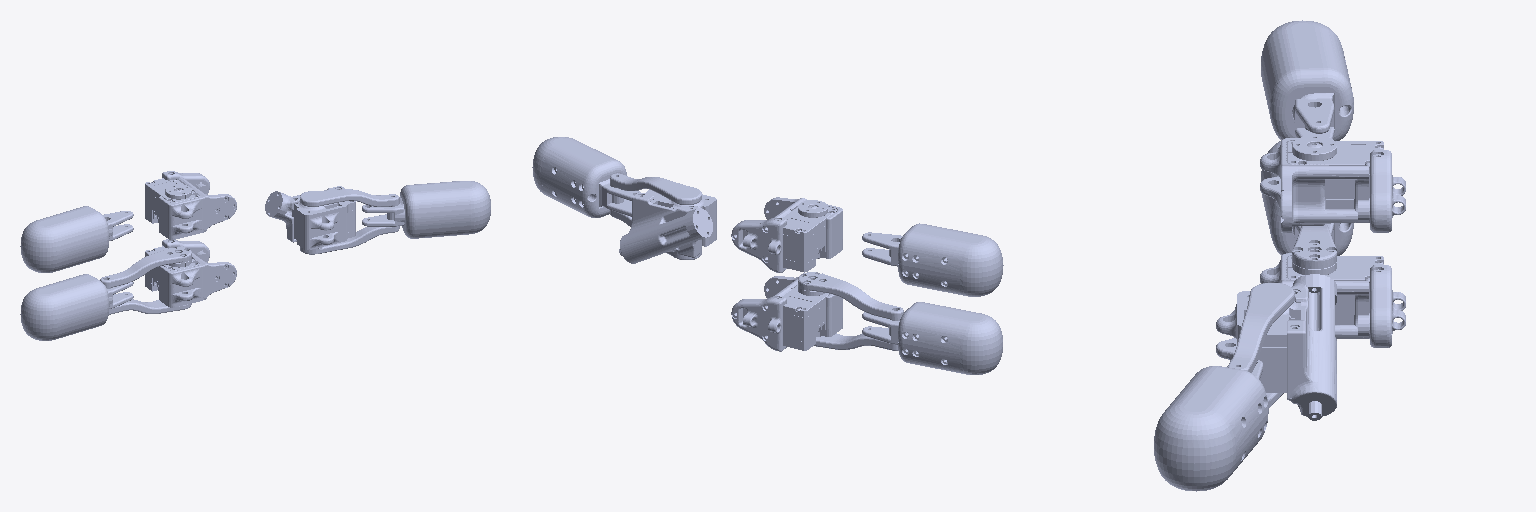
The robot description file, URDF, robot "URDF_v4_Right":
<?xml version="1.0" encoding="utf-8"?>
<!-- This URDF was automatically created by SolidWorks to URDF Exporter! Originally created by Stephen Brawner (brawner@gmail.com) 
     Commit Version: 1.6.0-4-g7f85cfe  Build Version: 1.6.7995.38578
     For more information, please see http://wiki.ros.org/sw_urdf_exporter -->
<robot
  name="URDF_v4_Right">
  <link
    name="base_link">
    <inertial>
      <origin
        xyz="0.00656720169302084 0.014479377474207 0.00017721012836088"
        rpy="0 0 0" />
      <mass
        value="0.241418881118491" />
      <inertia
        ixx="8.29179012284045E-05"
        ixy="-5.57843135835109E-06"
        ixz="1.75115263652209E-07"
        iyy="0.000145285415943206"
        iyz="-4.25231448389357E-07"
        izz="0.00010114061356772" />
    </inertial>
    <visual>
      <origin
        xyz="0 0 0"
        rpy="0 0 0" />
      <geometry>
        <mesh
          filename="package://URDF_v4_Right/meshes/base_link.STL" />
      </geometry>
      <material
        name="">
        <color
          rgba="0.792156862745098 0.819607843137255 0.933333333333333 1" />
      </material>
    </visual>
    <collision>
      <origin
        xyz="0 0 0"
        rpy="0 0 0" />
      <geometry>
        <mesh
          filename="package://URDF_v4_Right/meshes/base_link.STL" />
      </geometry>
    </collision>
  </link>
  <link
    name="CMC">
    <inertial>
      <origin
        xyz="0.0193678734622304 -0.00898899318604927 0.0104809276453103"
        rpy="0 0 0" />
      <mass
        value="0.0264128081450763" />
      <inertia
        ixx="1.83714301413544E-06"
        ixy="6.56655420051632E-07"
        ixz="1.66576044172142E-08"
        iyy="4.07199364840859E-06"
        iyz="4.8706980224364E-08"
        izz="4.45745212992967E-06" />
    </inertial>
    <visual>
      <origin
        xyz="0 0 0"
        rpy="0 0 0" />
      <geometry>
        <mesh
          filename="package://URDF_v4_Right/meshes/CMC.STL" />
      </geometry>
      <material
        name="">
        <color
          rgba="0.792156862745098 0.819607843137255 0.933333333333333 1" />
      </material>
    </visual>
    <collision>
      <origin
        xyz="0 0 0"
        rpy="0 0 0" />
      <geometry>
        <mesh
          filename="package://URDF_v4_Right/meshes/CMC.STL" />
      </geometry>
    </collision>
  </link>
  <joint
    name="Joint1"
    type="revolute">
    <origin
      xyz="0.0049117 0 0.0085073"
      rpy="1.5708 0 0" />
    <parent
      link="base_link" />
    <child
      link="CMC" />
    <axis
      xyz="0.86603 -0.5 0" />
    <limit
      lower="-1.25"
      upper="0.70"
      effort="1"
      velocity="1" />
  </joint>
  <link
    name="Link1_Thumb">
    <inertial>
      <origin
        xyz="-0.0203422741080077 0.00733798468042576 -1.64553600606743E-09"
        rpy="0 0 0" />
      <mass
        value="0.00560650073800743" />
      <inertia
        ixx="1.09064967247218E-07"
        ixy="4.3022683138531E-09"
        ixz="3.41177789429198E-14"
        iyy="1.74465945719792E-06"
        iyz="-1.73448350699336E-14"
        izz="1.74158758948159E-06" />
    </inertial>
    <visual>
      <origin
        xyz="0 0 0"
        rpy="0 0 0" />
      <geometry>
        <mesh
          filename="package://URDF_v4_Right/meshes/Link1_Thumb.STL" />
      </geometry>
      <material
        name="">
        <color
          rgba="0.792156862745098 0.819607843137255 0.933333333333333 1" />
      </material>
    </visual>
    <collision>
      <origin
        xyz="0 0 0"
        rpy="0 0 0" />
      <geometry>
        <mesh
          filename="package://URDF_v4_Right/meshes/Link1_Thumb.STL" />
      </geometry>
    </collision>
  </link>
  <joint
    name="Joint6"
    type="revolute">
    <origin
      xyz="0.013607 0 0.015"
      rpy="0 0.24469 3.1416" />
    <parent
      link="CMC" />
    <child
      link="Link1_Thumb" />
    <axis
      xyz="0 1 0" />
    <limit
      lower="0"
      upper="2"
      effort="0"
      velocity="0" />
  </joint>
  <link
    name="Fingertip_Thumb">
    <inertial>
      <origin
        xyz="-0.0204333253029588 -0.0100056019932063 0.00247725859759255"
        rpy="0 0 0" />
      <mass
        value="0.0125196567770339" />
      <inertia
        ixx="9.72175142926983E-07"
        ixy="2.98477594308915E-09"
        ixz="1.50029529851244E-07"
        iyy="2.35371742836929E-06"
        iyz="-6.70708985640319E-10"
        izz="2.47085555385713E-06" />
    </inertial>
    <visual>
      <origin
        xyz="0 0 0"
        rpy="0 0 0" />
      <geometry>
        <mesh
          filename="package://URDF_v4_Right/meshes/Fingertip_Thumb.STL" />
      </geometry>
      <material
        name="">
        <color
          rgba="0.792156862745098 0.819607843137255 0.933333333333333 1" />
      </material>
    </visual>
    <collision>
      <origin
        xyz="0 0 0"
        rpy="0 0 0" />
      <geometry>
        <mesh
          filename="package://URDF_v4_Right/meshes/Fingertip_Thumb.STL" />
      </geometry>
    </collision>
  </link>
  <joint
    name="Joint7"
    type="revolute">
    <origin
      xyz="-0.05 -0.0019185 0"
      rpy="3.1416 0.093216 0" />
    <parent
      link="Link1_Thumb" />
    <child
      link="Fingertip_Thumb" />
    <axis
      xyz="0 1 0" />
    <limit
      lower="0"
      upper="2"
      effort="0"
      velocity="0" />
  </joint>
  <link
    name="Abd_Add_Index">
    <inertial>
      <origin
        xyz="-0.0213545806625778 0.000261543766344633 -0.00689109537300997"
        rpy="0 0 0" />
      <mass
        value="0.0230626142210204" />
      <inertia
        ixx="2.50642854632867E-06"
        ixy="-1.06469591252552E-07"
        ixz="-5.27617781350041E-08"
        iyy="3.29575299089444E-06"
        iyz="-1.26757974546424E-07"
        izz="2.13775454170167E-06" />
    </inertial>
    <visual>
      <origin
        xyz="0 0 0"
        rpy="0 0 0" />
      <geometry>
        <mesh
          filename="package://URDF_v4_Right/meshes/Abd_Add_Index.STL" />
      </geometry>
      <material
        name="">
        <color
          rgba="0.792156862745098 0.819607843137255 0.933333333333333 1" />
      </material>
    </visual>
    <collision>
      <origin
        xyz="0 0 0"
        rpy="0 0 0" />
      <geometry>
        <mesh
          filename="package://URDF_v4_Right/meshes/Abd_Add_Index.STL" />
      </geometry>
    </collision>
  </link>
  <joint
    name="Joint2"
    type="revolute">
    <origin
      xyz="-0.04 0 0.0225"
      rpy="1.5707963267949 0 0" />
    <parent
      link="base_link" />
    <child
      link="Abd_Add_Index" />
    <axis
      xyz="0 0 1" />
    <limit
      lower="-1.57"
      upper="0"
      effort="0"
      velocity="0" />
  </joint>
  <link
    name="Link1_Index">
    <inertial>
      <origin
        xyz="-0.0202724368908947 -0.000712304404879467 -3.85780431145729E-09"
        rpy="0 0 0" />
      <mass
        value="0.00571177198623797" />
      <inertia
        ixx="1.1632364015844E-07"
        ixy="8.54445293233152E-09"
        ixz="-5.11234296385733E-13"
        iyy="1.7363456461322E-06"
        iyz="-1.08480465815374E-13"
        izz="1.73868615513806E-06" />
    </inertial>
    <visual>
      <origin
        xyz="0 0 0"
        rpy="0 0 0" />
      <geometry>
        <mesh
          filename="package://URDF_v4_Right/meshes/Link1_Index.STL" />
      </geometry>
      <material
        name="">
        <color
          rgba="0.792156862745098 0.819607843137255 0.933333333333333 1" />
      </material>
    </visual>
    <collision>
      <origin
        xyz="0 0 0"
        rpy="0 0 0" />
      <geometry>
        <mesh
          filename="package://URDF_v4_Right/meshes/Link1_Index.STL" />
      </geometry>
    </collision>
  </link>
  <joint
    name="Joint5"
    type="revolute">
    <origin
      xyz="-0.026 0 0"
      rpy="0 0 0" />
    <parent
      link="Abd_Add_Index" />
    <child
      link="Link1_Index" />
    <axis
      xyz="0 1 0" />
    <limit
      lower="0"
      upper="2"
      effort="0"
      velocity="0" />
  </joint>
  <link
    name="Fingertip_Index">
    <inertial>
      <origin
        xyz="-0.0204333577805241 -5.60249874107313E-06 0.00247727103269342"
        rpy="0 0 0" />
      <mass
        value="0.012519683467004" />
      <inertia
        ixx="9.72179562505661E-07"
        ixy="2.98477501679517E-09"
        ixz="1.50030056444559E-07"
        iyy="2.35372263228688E-06"
        iyz="-6.70250954897714E-10"
        izz="2.47085678313063E-06" />
    </inertial>
    <visual>
      <origin
        xyz="0 0 0"
        rpy="0 0 0" />
      <geometry>
        <mesh
          filename="package://URDF_v4_Right/meshes/Fingertip_Index.STL" />
      </geometry>
      <material
        name="">
        <color
          rgba="0.792156862745098 0.819607843137255 0.933333333333333 1" />
      </material>
    </visual>
    <collision>
      <origin
        xyz="0 0 0"
        rpy="0 0 0" />
      <geometry>
        <mesh
          filename="package://URDF_v4_Right/meshes/Fingertip_Index.STL" />
      </geometry>
    </collision>
  </link>
  <joint
    name="Joint8"
    type="revolute">
    <origin
      xyz="-0.05 0 0"
      rpy="3.1416 0.093216 0" />
    <parent
      link="Link1_Index" />
    <child
      link="Fingertip_Index" />
    <axis
      xyz="0 1 0" />
    <limit
      lower="0"
      upper="2"
      effort="0"
      velocity="0" />
  </joint>
  <link
    name="Abd_Add_Pinkie">
    <inertial>
      <origin
        xyz="-0.0213545806625778 0.000261543766344626 -0.00689109537300998"
        rpy="0 0 0" />
      <mass
        value="0.0230626142210204" />
      <inertia
        ixx="2.50642854632867E-06"
        ixy="-1.06469591252552E-07"
        ixz="-5.27617781350039E-08"
        iyy="3.29575299089444E-06"
        iyz="-1.26757974546424E-07"
        izz="2.13775454170168E-06" />
    </inertial>
    <visual>
      <origin
        xyz="0 0 0"
        rpy="0 0 0" />
      <geometry>
        <mesh
          filename="package://URDF_v4_Right/meshes/Abd_Add_Pinkie.STL" />
      </geometry>
      <material
        name="">
        <color
          rgba="0.792156862745098 0.819607843137255 0.933333333333333 1" />
      </material>
    </visual>
    <collision>
      <origin
        xyz="0 0 0"
        rpy="0 0 0" />
      <geometry>
        <mesh
          filename="package://URDF_v4_Right/meshes/Abd_Add_Pinkie.STL" />
      </geometry>
    </collision>
  </link>
  <joint
    name="Joint3"
    type="revolute">
    <origin
      xyz="-0.04 0 -0.0225"
      rpy="1.5707963267949 0 0" />
    <parent
      link="base_link" />
    <child
      link="Abd_Add_Pinkie" />
    <axis
      xyz="0 0 1" />
    <limit
      lower="0"
      upper="1.57"
      effort="0"
      velocity="0" />
  </joint>
  <link
    name="Link1_Pinkie">
    <inertial>
      <origin
        xyz="-0.0202724368908947 -0.000712304404879488 -3.85780430984588E-09"
        rpy="0 0 0" />
      <mass
        value="0.00571177198623797" />
      <inertia
        ixx="1.16323640158451E-07"
        ixy="8.54445293233181E-09"
        ixz="-5.1123429617025E-13"
        iyy="1.73634564613222E-06"
        iyz="-1.08480465880813E-13"
        izz="1.73868615513806E-06" />
    </inertial>
    <visual>
      <origin
        xyz="0 0 0"
        rpy="0 0 0" />
      <geometry>
        <mesh
          filename="package://URDF_v4_Right/meshes/Link1_Pinkie.STL" />
      </geometry>
      <material
        name="">
        <color
          rgba="0.792156862745098 0.819607843137255 0.933333333333333 1" />
      </material>
    </visual>
    <collision>
      <origin
        xyz="0 0 0"
        rpy="0 0 0" />
      <geometry>
        <mesh
          filename="package://URDF_v4_Right/meshes/Link1_Pinkie.STL" />
      </geometry>
    </collision>
  </link>
  <joint
    name="Joint4"
    type="revolute">
    <origin
      xyz="-0.026 0 0"
      rpy="0 0 0" />
    <parent
      link="Abd_Add_Pinkie" />
    <child
      link="Link1_Pinkie" />
    <axis
      xyz="0 1 0" />
    <limit
      lower="0"
      upper="2"
      effort="0"
      velocity="0" />
  </joint>
  <link
    name="Fingertip_Pinkie">
    <inertial>
      <origin
        xyz="-0.0204333574959239 -5.60226405327269E-06 0.00247727091625364"
        rpy="0 0 0" />
      <mass
        value="0.0125196831565173" />
      <inertia
        ixx="9.72179507020448E-07"
        ixy="2.98476810615469E-09"
        ixz="1.50030062910066E-07"
        iyy="2.35372260755179E-06"
        iyz="-6.70278964100714E-10"
        izz="2.47085675635161E-06" />
    </inertial>
    <visual>
      <origin
        xyz="0 0 0"
        rpy="0 0 0" />
      <geometry>
        <mesh
          filename="package://URDF_v4_Right/meshes/Fingertip_Pinkie.STL" />
      </geometry>
      <material
        name="">
        <color
          rgba="0.792156862745098 0.819607843137255 0.933333333333333 1" />
      </material>
    </visual>
    <collision>
      <origin
        xyz="0 0 0"
        rpy="0 0 0" />
      <geometry>
        <mesh
          filename="package://URDF_v4_Right/meshes/Fingertip_Pinkie.STL" />
      </geometry>
    </collision>
  </link>
  <joint
    name="Joint9"
    type="revolute">
    <origin
      xyz="-0.05 0 0"
      rpy="3.1416 0.093216 0" />
    <parent
      link="Link1_Pinkie" />
    <child
      link="Fingertip_Pinkie" />
    <axis
      xyz="0 1 0" />
    <limit
      lower="0"
      upper="2"
      effort="0"
      velocity="0" />
  </joint>
</robot>

--- Render facts (derived) ---
Views: 3 orthographic renders of the robot side by side, from view 1: azimuth 30°, elevation 25°; view 2: azimuth 150°, elevation 25°; view 3: azimuth 270°, elevation 25°.
Robot: URDF_v4_Right — 10 links, 9 joints (9 revolute); root link base_link; default pose: all joints at 0.
Links seen in each view (by area): view 1: Fingertip_Thumb, Fingertip_Index, Fingertip_Pinkie, Abd_Add_Index, Abd_Add_Pinkie, CMC, Link1_Thumb, Link1_Pinkie; view 2: Fingertip_Index, Fingertip_Pinkie, Abd_Add_Index, Abd_Add_Pinkie, Fingertip_Thumb, CMC, Link1_Pinkie, Link1_Thumb; view 3: Abd_Add_Index, Fingertip_Thumb, CMC, Fingertip_Index, Abd_Add_Pinkie, Link1_Thumb, Fingertip_Pinkie, Link1_Pinkie.
Boxes of the visible links, x1=… form: Fingertip_Thumb: x1=362, y1=181, x2=490, y2=238; Fingertip_Index: x1=20, y1=206, x2=133, y2=272; Fingertip_Pinkie: x1=20, y1=274, x2=133, y2=340; Abd_Add_Index: x1=145, y1=171, x2=236, y2=239; Abd_Add_Pinkie: x1=145, y1=239, x2=236, y2=307; CMC: x1=265, y1=186, x2=355, y2=249; Link1_Thumb: x1=300, y1=189, x2=399, y2=254; Link1_Pinkie: x1=100, y1=246, x2=191, y2=314; Fingertip_Index: x1=862, y1=223, x2=1003, y2=296; Fingertip_Pinkie: x1=862, y1=302, x2=1002, y2=374; Abd_Add_Index: x1=731, y1=197, x2=842, y2=272; Abd_Add_Pinkie: x1=731, y1=276, x2=842, y2=351; Fingertip_Thumb: x1=532, y1=137, x2=640, y2=217; CMC: x1=619, y1=190, x2=716, y2=263; Link1_Pinkie: x1=798, y1=272, x2=903, y2=350; Link1_Thumb: x1=610, y1=173, x2=701, y2=259; Abd_Add_Index: x1=1260, y1=135, x2=1405, y2=232; Fingertip_Thumb: x1=1154, y1=360, x2=1268, y2=491; CMC: x1=1216, y1=274, x2=1336, y2=420; Fingertip_Index: x1=1261, y1=20, x2=1353, y2=140; Abd_Add_Pinkie: x1=1260, y1=253, x2=1405, y2=347; Link1_Thumb: x1=1227, y1=283, x2=1294, y2=407; Fingertip_Pinkie: x1=1261, y1=140, x2=1353, y2=255; Link1_Pinkie: x1=1292, y1=224, x2=1336, y2=340.
Size in the robot's own frame: 0.3003 by 0.0894 by 0.0779 metres.
Meshes: 10 distinct files referenced, 8 mesh visuals loaded (8 binary STL); not drawn: 2 (reference not matched to a file when rendering).
